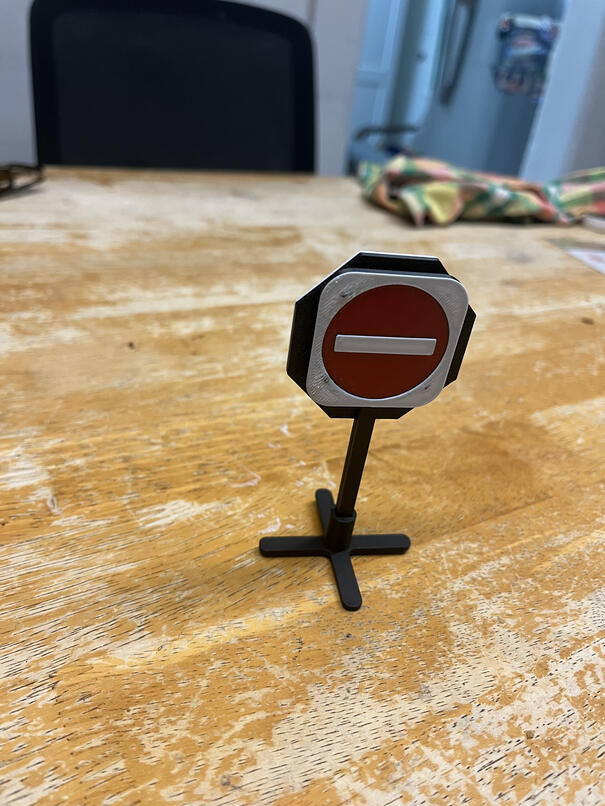sign_noentry: (309, 267, 472, 417)
